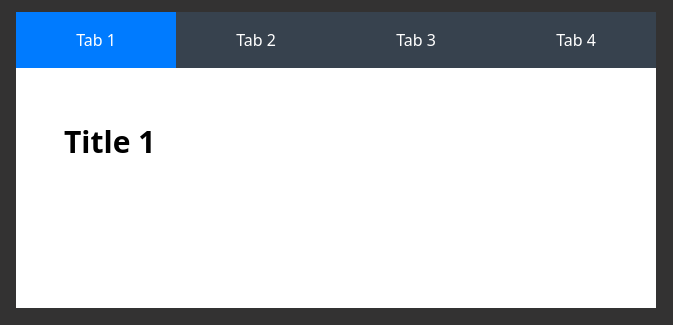
Test: Tab Component › updates URL and active tab when a tab is clicked
Simulate clicking the tab
Click the button "Tab 2".
click(256, 40)  # box [176,12,336,68]
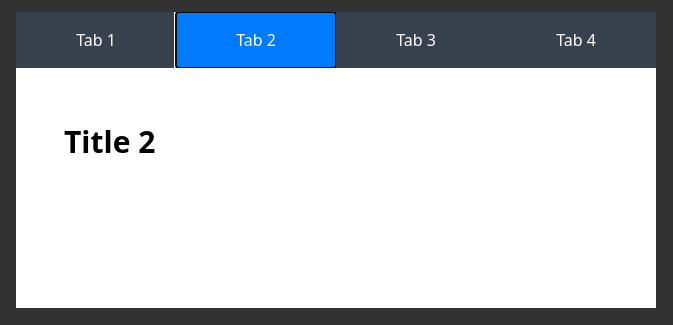
Now the heading "Title 2" is shown, box [64,121,155,162]
